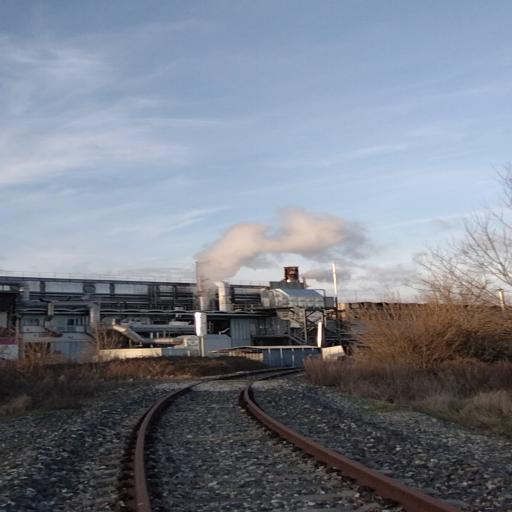leakage: (182, 203, 429, 311)
